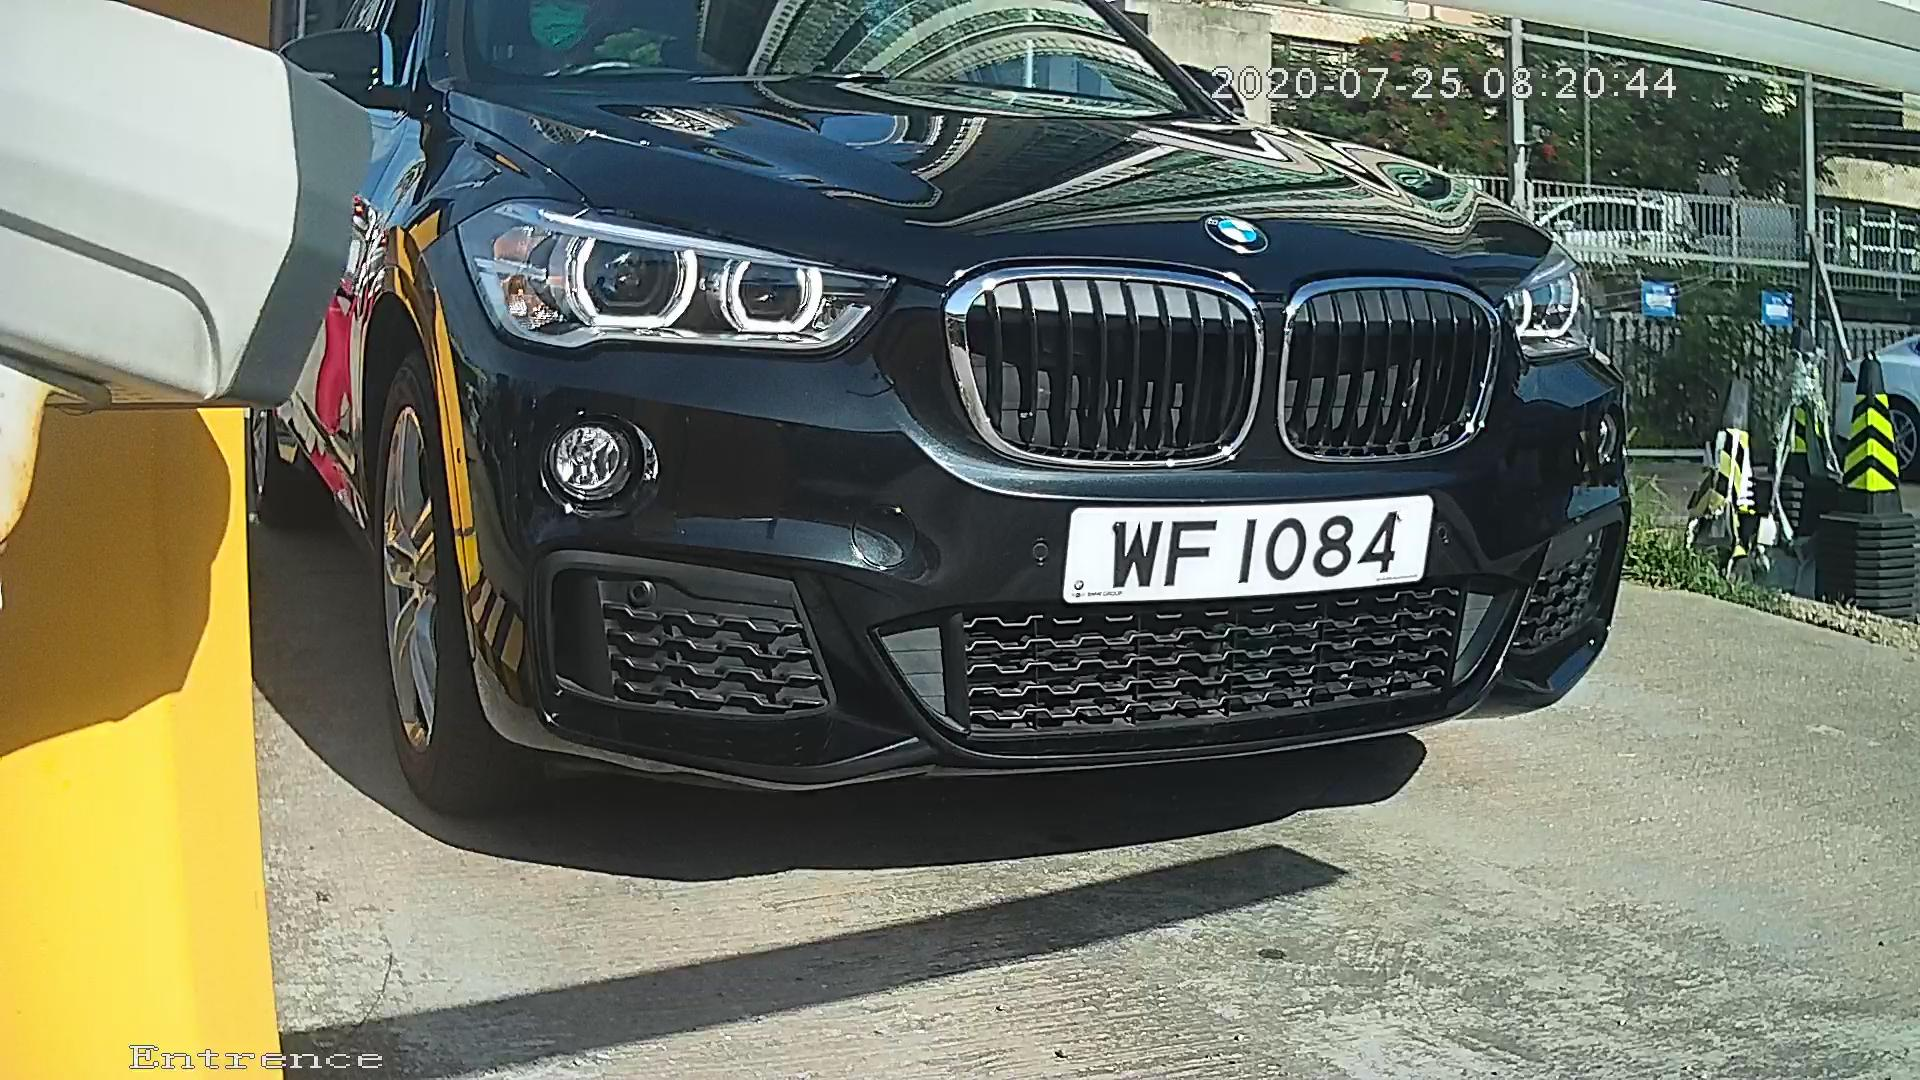License Plate: (1038, 478, 1449, 622)
